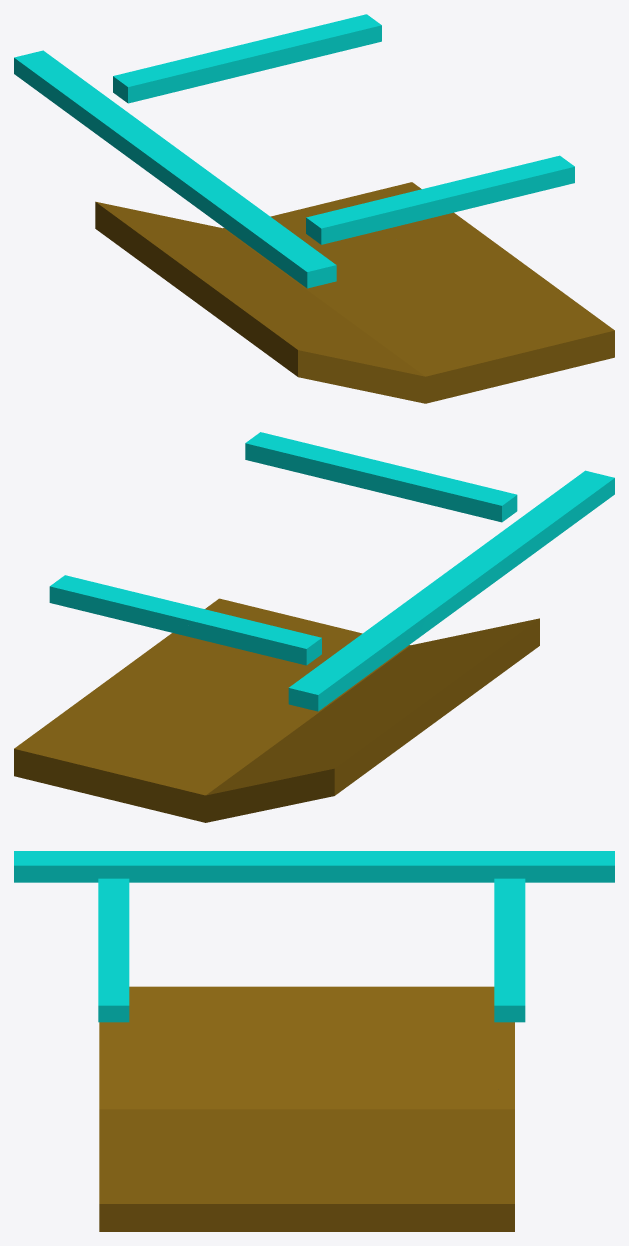
Rendered from Environment_Attachment_Balcony_A_Shattered.fbx.
The picture shows the model from 3 angles, top to bottom: view 1: azimuth 30°, elevation 25°; view 2: azimuth 150°, elevation 25°; view 3: azimuth 270°, elevation 25°; orthographic projection. The views are drawn at different scales.
Parts seen in each view (by area): view 1: Environment_Attachment_Balcony_A7, Environment_Attachment_Balcony_A8, Environment_Attachment_Balcony_A10, Environment_Attachment_Balcony_A6, Environment_Attachment_Balcony_A9, Environment_Attachment_Balcony_A4, Environment_Attachment_Balcony_A11; view 2: Environment_Attachment_Balcony_A7, Environment_Attachment_Balcony_A8, Environment_Attachment_Balcony_A6, Environment_Attachment_Balcony_A10, Environment_Attachment_Balcony_A11, Environment_Attachment_Balcony_A9, Environment_Attachment_Balcony_A4, Environment_Attachment_Balcony_A5; view 3: Environment_Attachment_Balcony_A7, Environment_Attachment_Balcony_A8, Environment_Attachment_Balcony_A6, Environment_Attachment_Balcony_A10, Environment_Attachment_Balcony_A11, Environment_Attachment_Balcony_A9, Environment_Attachment_Balcony_A4, Environment_Attachment_Balcony_A5.
Boxes of the visible parts, left/top/right/bottom form: Environment_Attachment_Balcony_A7: left=193, top=155, right=614, bottom=403; Environment_Attachment_Balcony_A8: left=113, top=128, right=476, bottom=342; Environment_Attachment_Balcony_A10: left=17, top=46, right=278, bottom=145; Environment_Attachment_Balcony_A6: left=270, top=14, right=505, bottom=253; Environment_Attachment_Balcony_A9: left=236, top=25, right=338, bottom=262; Environment_Attachment_Balcony_A4: left=95, top=202, right=148, bottom=252; Environment_Attachment_Balcony_A11: left=95, top=201, right=229, bottom=232; Environment_Attachment_Balcony_A7: left=109, top=432, right=614, bottom=698; Environment_Attachment_Balcony_A8: left=129, top=560, right=503, bottom=790; Environment_Attachment_Balcony_A6: left=14, top=575, right=162, bottom=811; Environment_Attachment_Balcony_A10: left=169, top=600, right=426, bottom=705; Environment_Attachment_Balcony_A11: left=159, top=767, right=335, bottom=822; Environment_Attachment_Balcony_A9: left=95, top=586, right=220, bottom=789; Environment_Attachment_Balcony_A4: left=294, top=752, right=367, bottom=804; Environment_Attachment_Balcony_A5: left=288, top=681, right=325, bottom=711; Environment_Attachment_Balcony_A7: left=14, top=851, right=331, bottom=1231; Environment_Attachment_Balcony_A8: left=208, top=851, right=514, bottom=1191; Environment_Attachment_Balcony_A6: left=314, top=983, right=525, bottom=1231; Environment_Attachment_Balcony_A10: left=394, top=851, right=608, bottom=953; Environment_Attachment_Balcony_A11: left=487, top=1016, right=514, bottom=1127; Environment_Attachment_Balcony_A9: left=387, top=940, right=525, bottom=1133; Environment_Attachment_Balcony_A4: left=471, top=986, right=494, bottom=1025; Environment_Attachment_Balcony_A5: left=587, top=851, right=614, bottom=882.
Size of the model in its own units: 1.3 by 0.7143 by 1.89.
